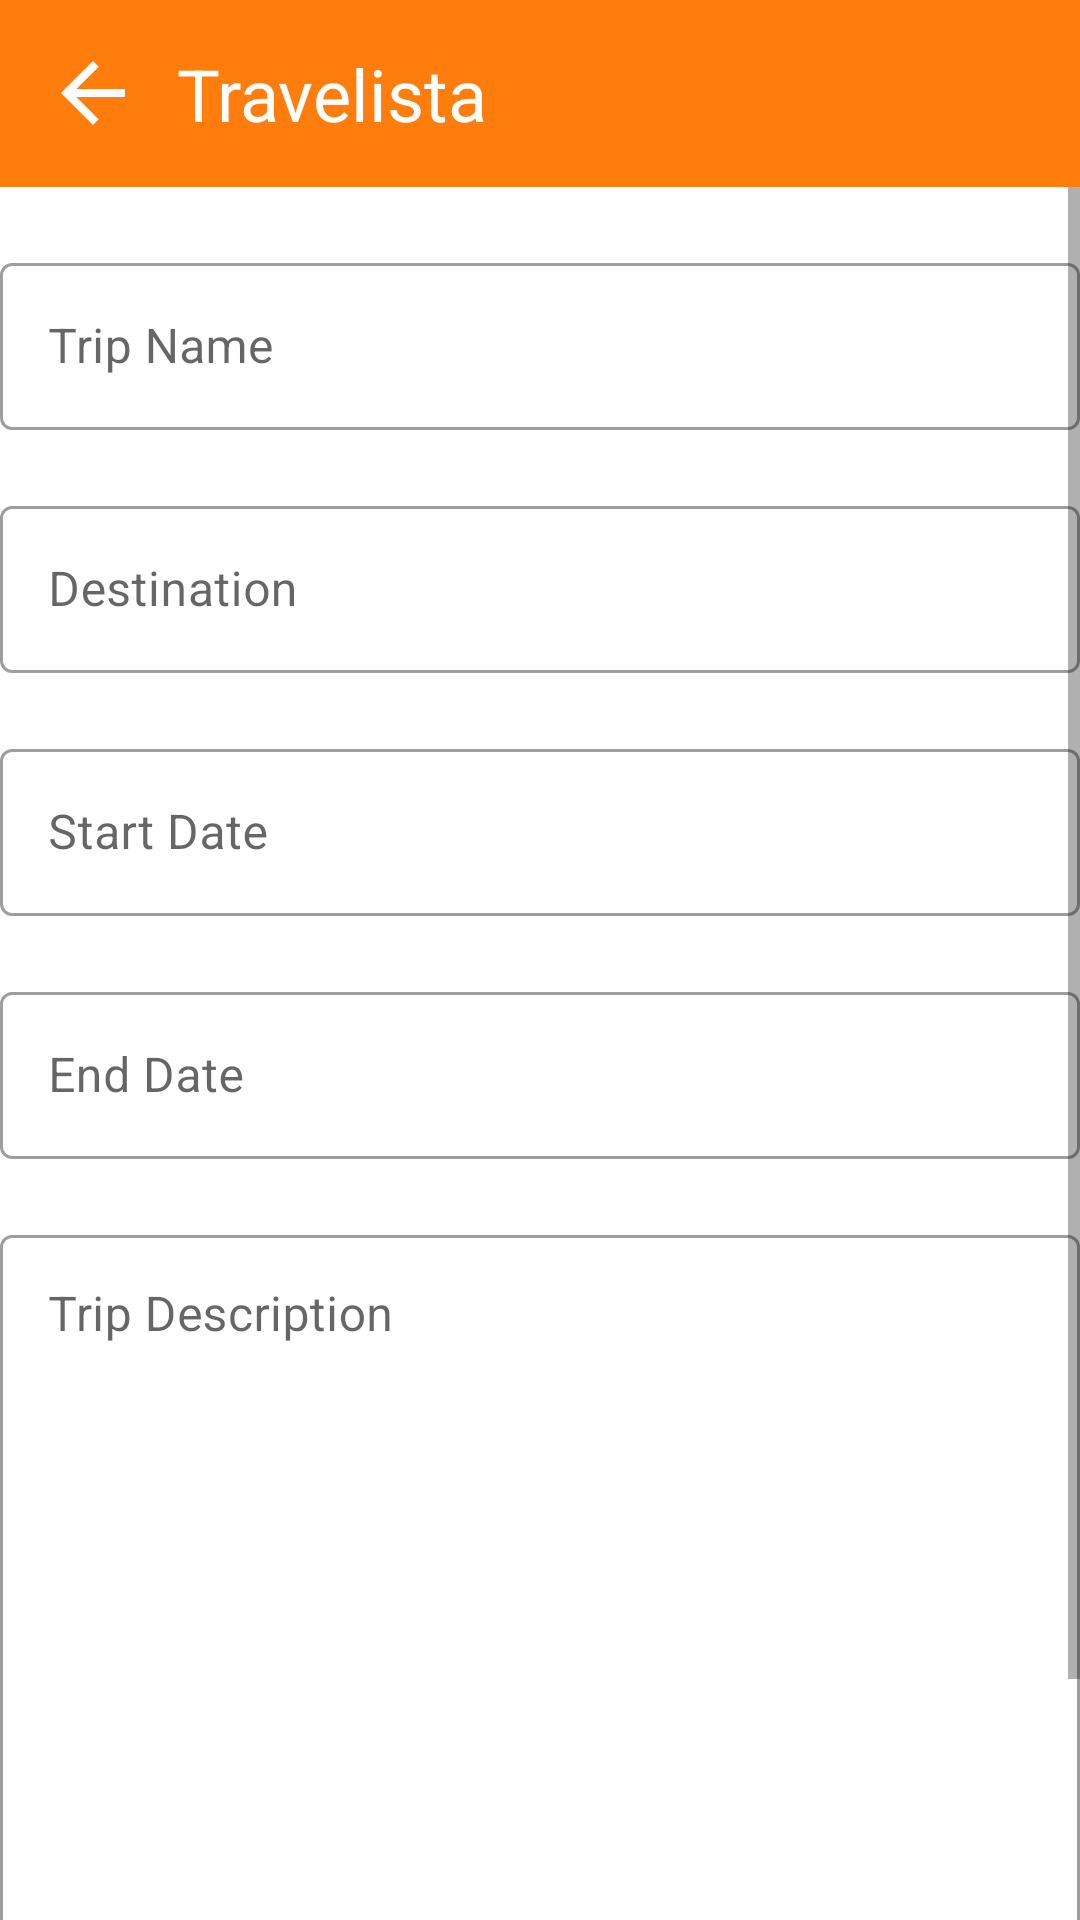

Screen size 1080 × 1920. Icon name, then its center in pixels as point (x, y):
back: point (93, 93)
